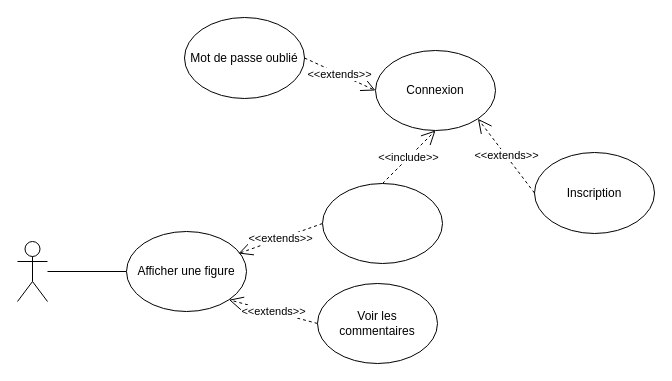
Some shapes in this 672 by 381 pixel diagram are drawn without their labels. The shapes that lost their labels are listed below. From the top down, each one's centre as x and y in pixels, then its label:
At pixel 382 223: "Ajouter un commentaire".
At pixel 32 271: "User".
